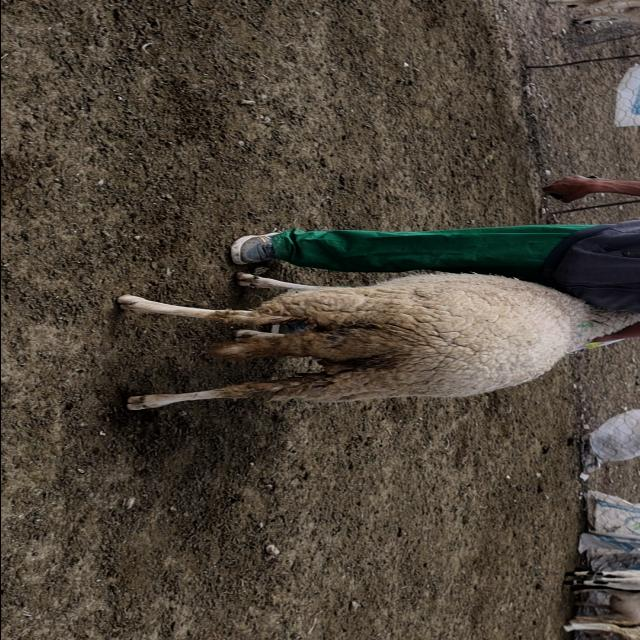Score_4: (117, 271, 640, 410)
